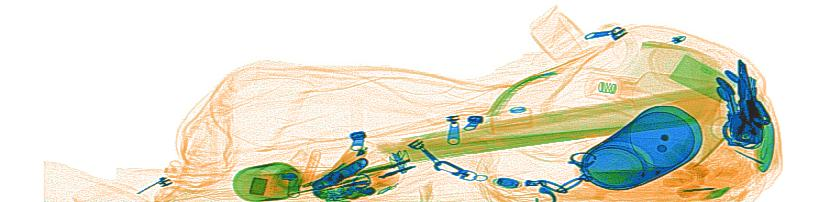plasticBottleWithaNozzle: (585, 66, 725, 128)
